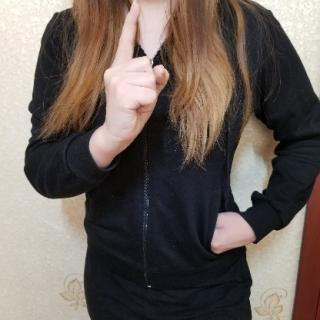RAA: (91, 0, 180, 159)
